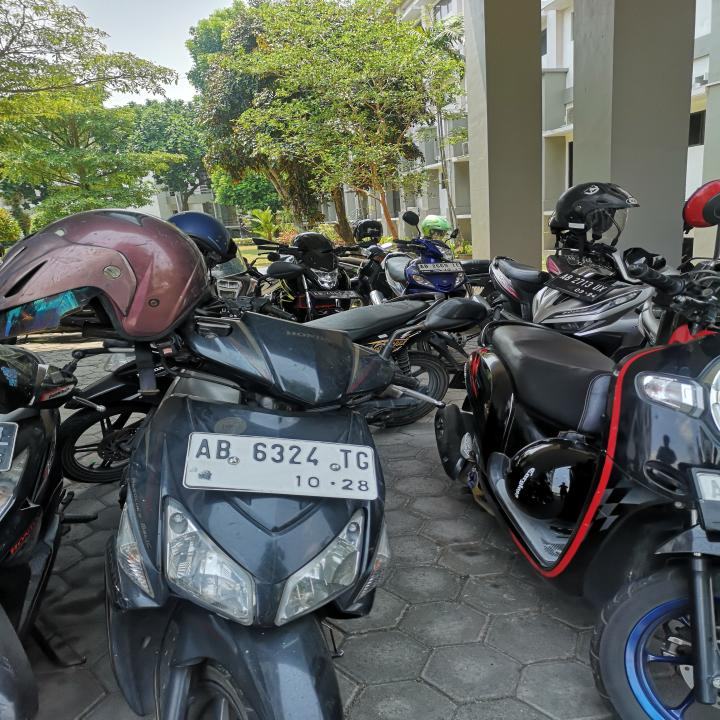plate: (179, 428, 383, 504), (544, 270, 615, 305), (416, 261, 466, 276)
